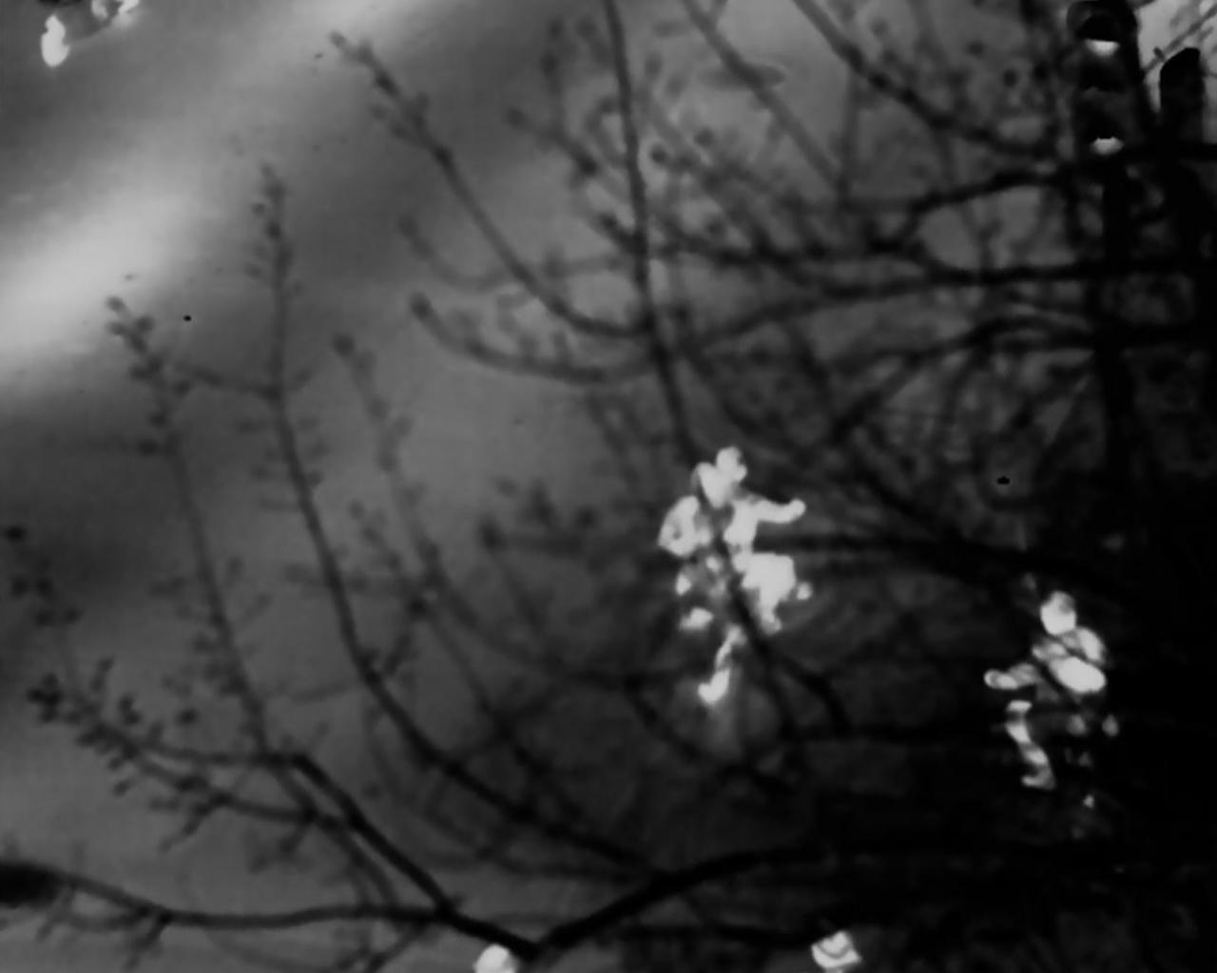person: (665, 452, 809, 675), (991, 582, 1118, 776)
